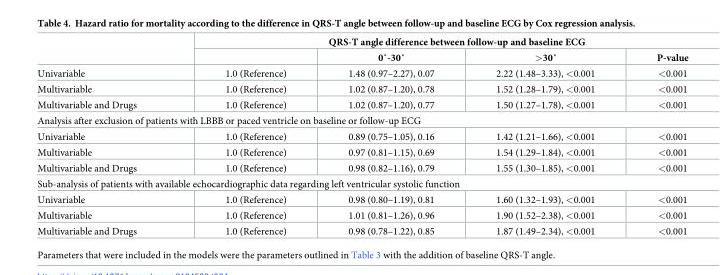table: (36, 36, 687, 236)
table column: (464, 36, 625, 236), (316, 36, 464, 236), (36, 36, 180, 236), (180, 36, 316, 236), (625, 36, 687, 236)
table column header: (36, 36, 687, 65)
table projected row header: (36, 112, 687, 128), (36, 175, 687, 191)
table row: (36, 49, 687, 65), (36, 65, 687, 81), (36, 96, 687, 112), (36, 112, 687, 128), (36, 128, 687, 144), (36, 144, 687, 160), (36, 175, 687, 191), (36, 191, 687, 207), (36, 207, 687, 223), (36, 81, 687, 96), (36, 160, 687, 175), (36, 36, 687, 49), (36, 223, 687, 236)
table spanning cell: (180, 36, 687, 49)
